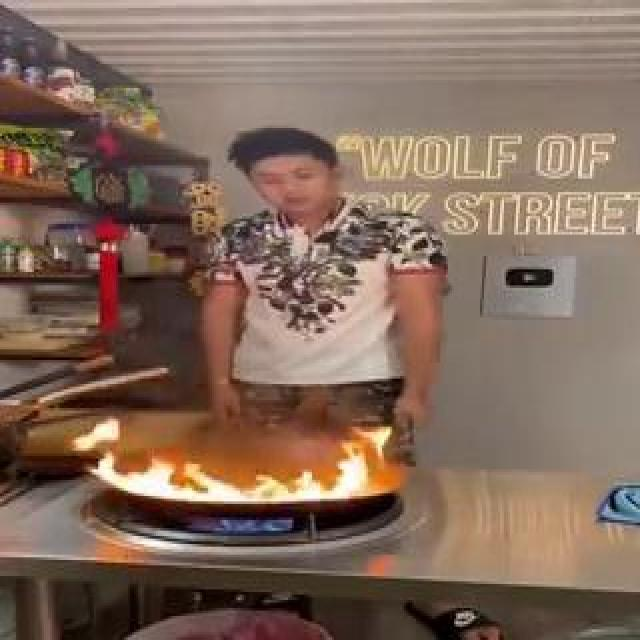Fire: (244, 106, 350, 450)
